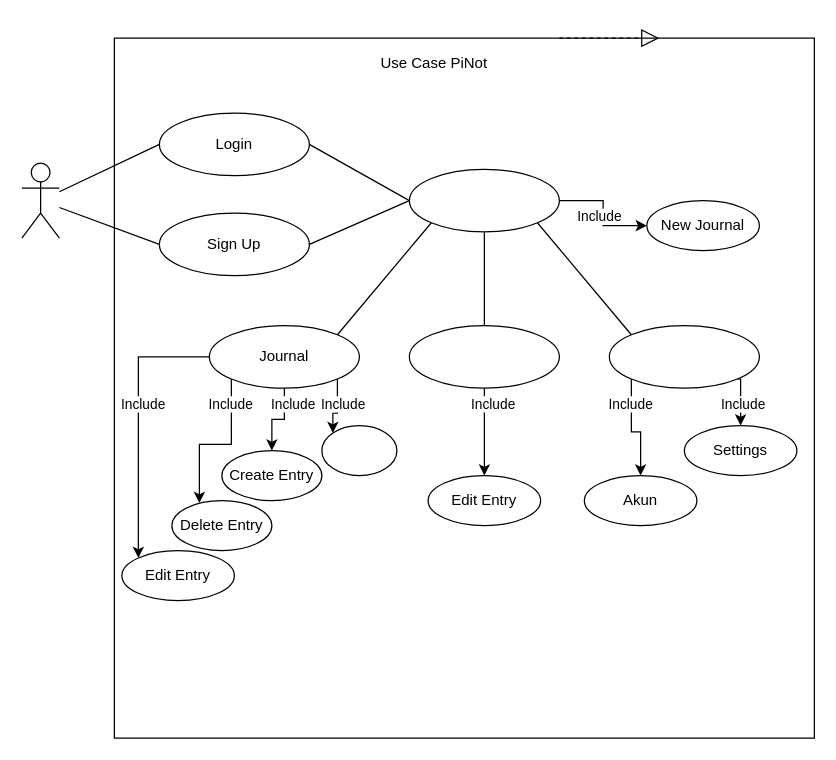
Some shapes in this 836 by 760 pixel diagram are drawn without their labels. Here are the shapes that lost their labels. From the top down, the box of each, then its label:
(21, 162, 59, 238): Actor
(408, 168, 559, 232): Halaman Utama
(408, 324, 559, 388): Enteries
(608, 324, 759, 388): Profile
(321, 424, 397, 476): Entry
